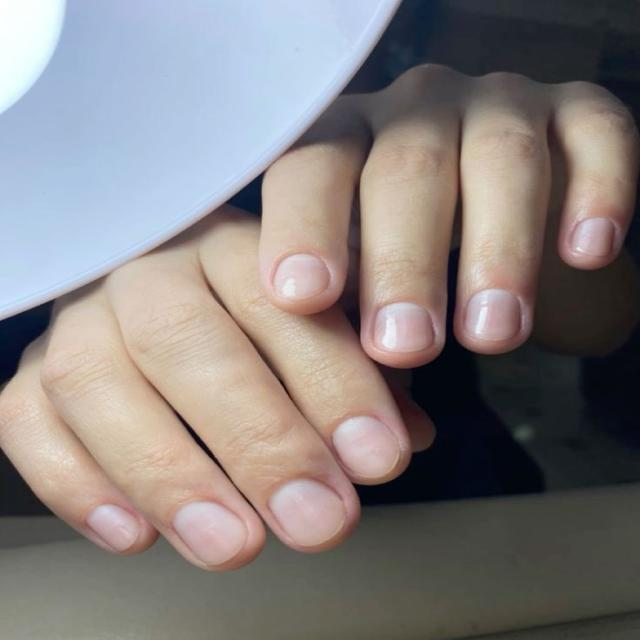Fingernail: (270, 479, 347, 546), (173, 500, 248, 566), (332, 415, 401, 479), (464, 290, 520, 342), (375, 303, 433, 353), (275, 253, 330, 299), (87, 504, 139, 552), (571, 218, 615, 257)
